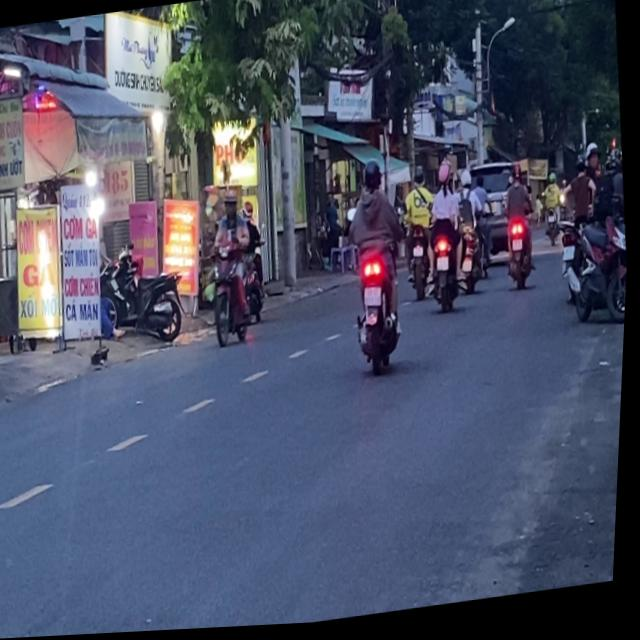helmet: (361, 160, 383, 194), (222, 188, 241, 220)
licenseplate: (337, 155, 415, 378), (199, 186, 261, 351)
nohelmet: (365, 288, 383, 310)
